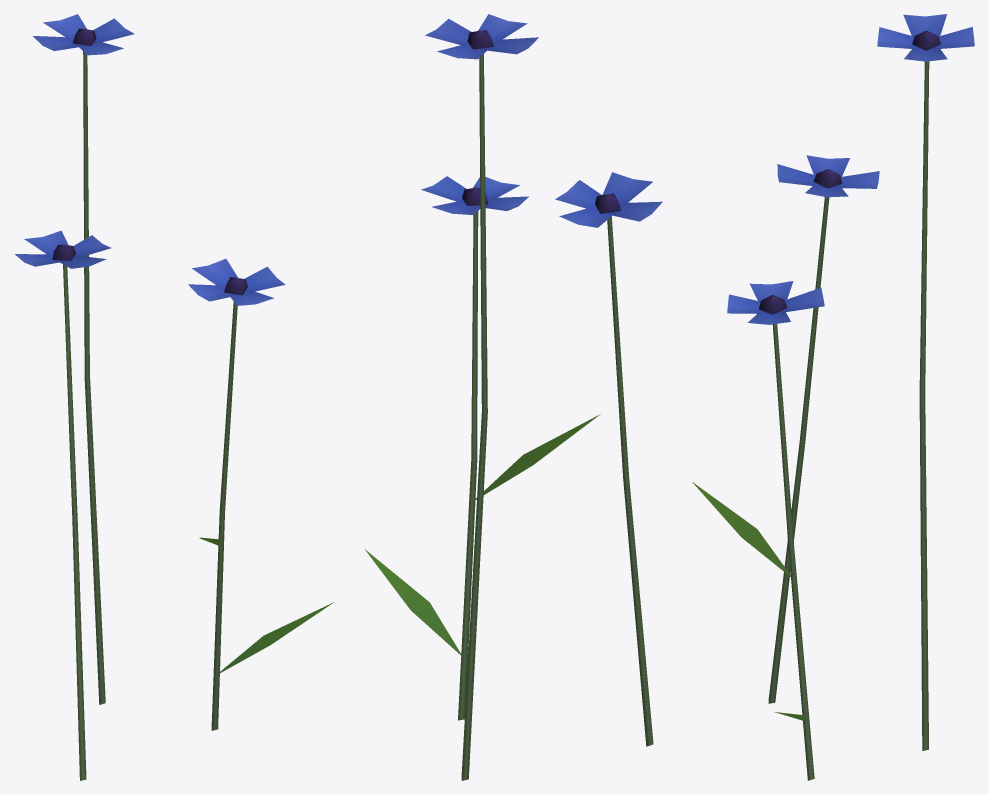
The model's file is flower-cornflower-b.lod2.glb.
3 views of the same model, side by side, from view 1: azimuth 30°, elevation 25°; view 2: azimuth 150°, elevation 25°; view 3: azimuth 270°, elevation 25° (orthographic). The views are drawn at different scales.
Visible parts, largest first — view 1: flower-cornflower-b.lod2; view 2: flower-cornflower-b.lod2; view 3: flower-cornflower-b.lod2.
Part boxes in pixels (x1,y1,x2,y2): flower-cornflower-b.lod2: (15,14,334,780); flower-cornflower-b.lod2: (364,14,662,780); flower-cornflower-b.lod2: (692,14,974,780).
Size of the model in its own units: 0.2113 by 0.4805 by 0.1738.
